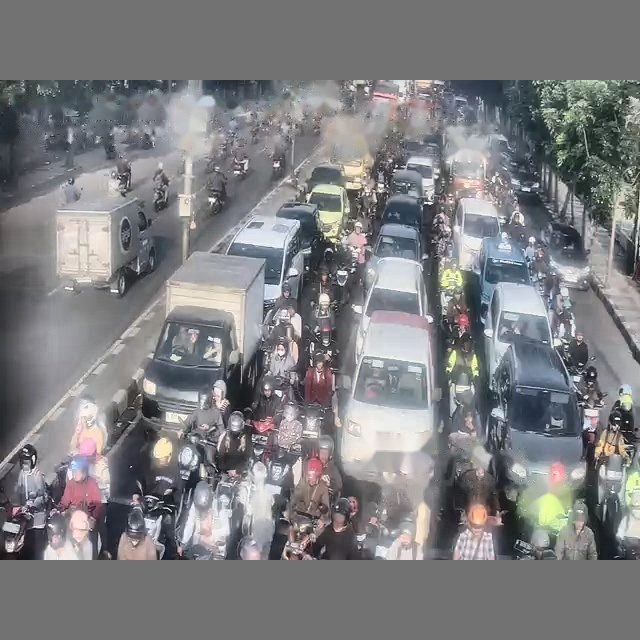Mobil: (338, 311, 441, 482), (487, 341, 585, 497), (352, 257, 429, 360), (226, 215, 303, 313), (484, 282, 553, 388), (474, 238, 531, 322), (365, 223, 427, 289), (453, 197, 500, 269), (276, 201, 323, 272), (547, 223, 590, 289), (307, 184, 350, 242), (381, 194, 424, 233), (406, 155, 434, 204), (508, 160, 540, 198), (305, 163, 346, 192), (401, 138, 425, 158)
Motor: (138, 495, 175, 559), (597, 454, 624, 533), (2, 507, 32, 557), (153, 185, 168, 212), (207, 191, 223, 215), (233, 158, 248, 178), (272, 157, 284, 180)
Truk: (141, 252, 264, 430), (55, 195, 155, 296)
